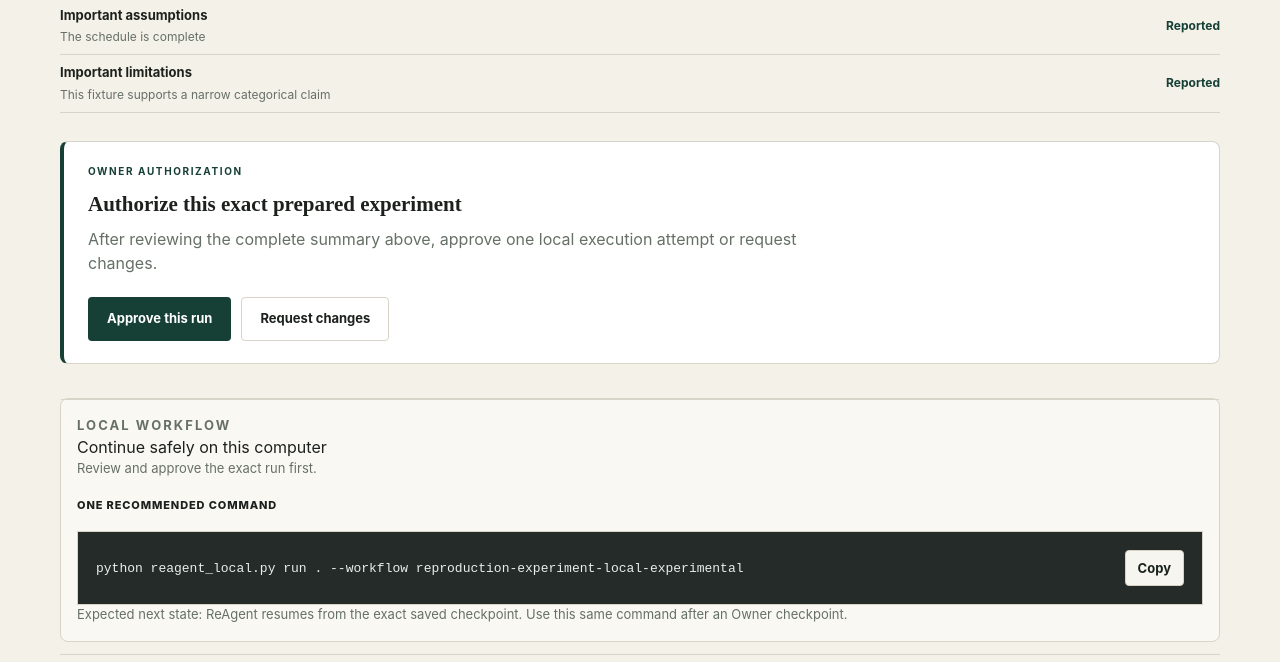
Run Approval request-changes action uses the same bounded authority
(page scrolled)
Click the button "Request changes" at [315, 319], box [242,297,389,341]
(page scrolled)
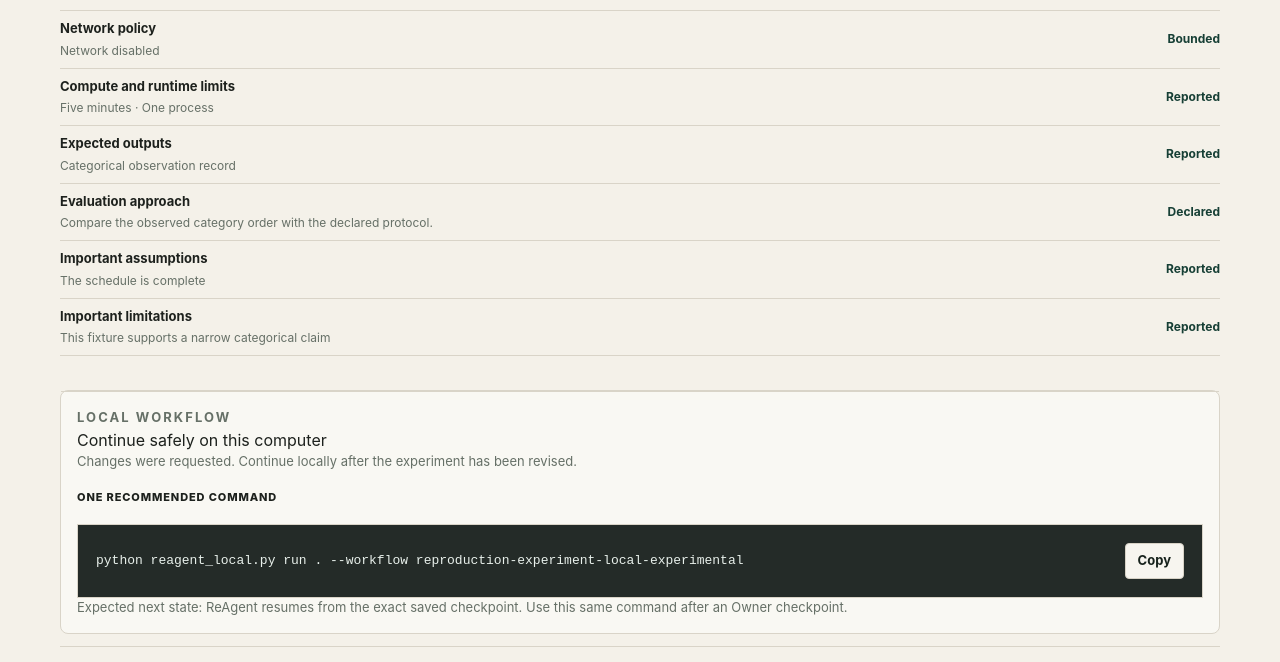
expect the text "Continue locally after the experiment has been revised" is shown: met, box [77,453,577,469]
